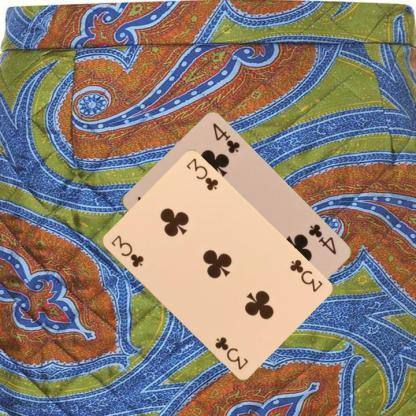3c: (286, 256, 324, 294), (108, 233, 145, 269)
4c: (304, 221, 338, 256)
